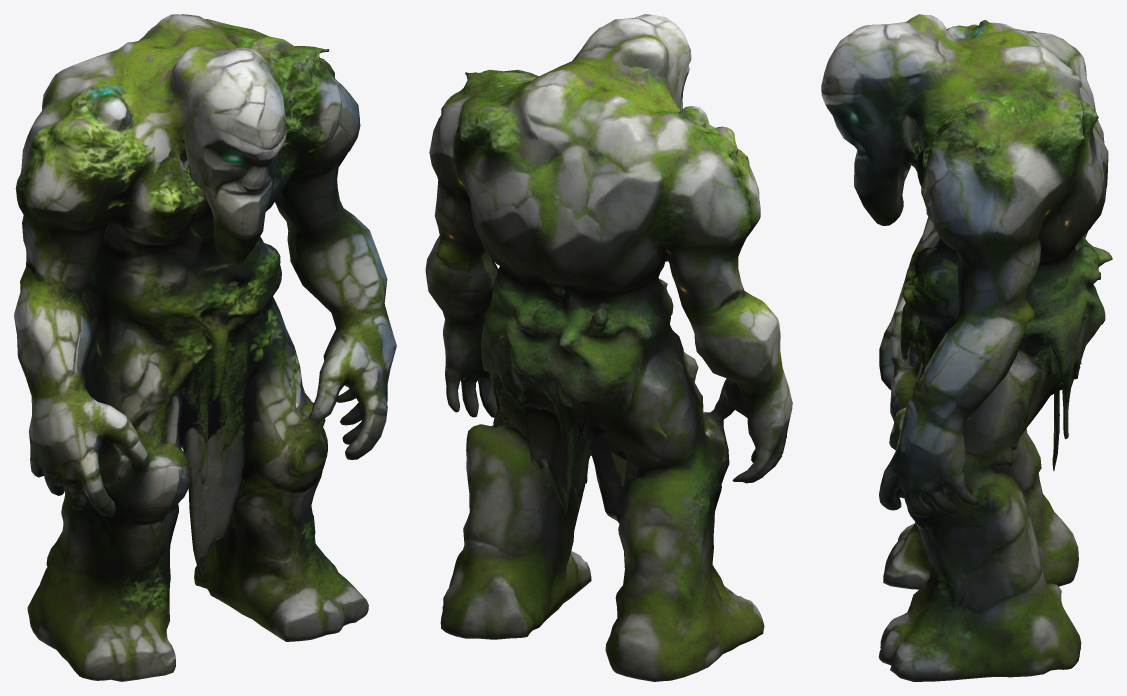
File: Tree_Golem.glb
3 renders of one model, left to right at view 1: azimuth 30°, elevation 25°; view 2: azimuth 150°, elevation 25°; view 3: azimuth 270°, elevation 25°, orthographic. The views are drawn at different scales.
Parts seen in each view (by area): view 1: Mesh1_Mesh1.087_Material.001_0; view 2: Mesh1_Mesh1.087_Material.001_0; view 3: Mesh1_Mesh1.087_Material.001_0.
Boxes of the visible parts, x1,y1,x2,y2 form: Mesh1_Mesh1.087_Material.001_0: (14,14,396,681); Mesh1_Mesh1.087_Material.001_0: (425,14,792,681); Mesh1_Mesh1.087_Material.001_0: (821,14,1112,681).
Size of the model in its own units: 1.23 by 1.98 by 0.8885.
Materials: 1 (1 with a texture image).
